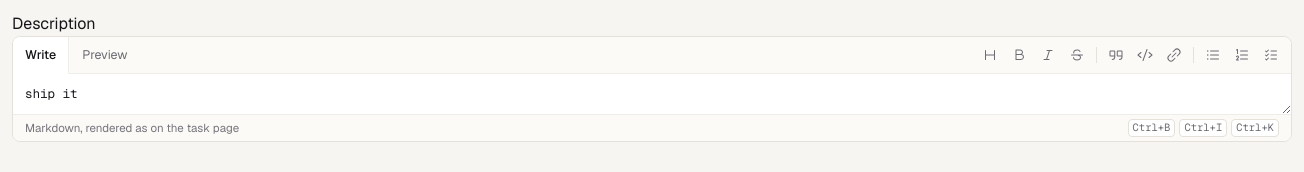
MarkdownEditor › formats the selected text from the toolbar
Click the button named "Bold": (1019, 55) x1=1005 y1=41 x2=1033 y2=69
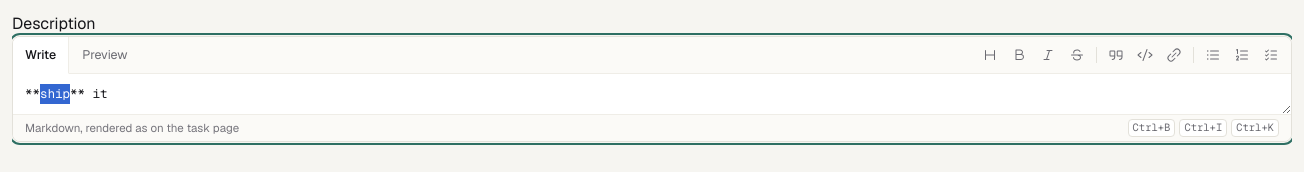
Now the text box labelled "Description" holds "**ship** it", box x1=13 y1=74 x2=1291 y2=114
